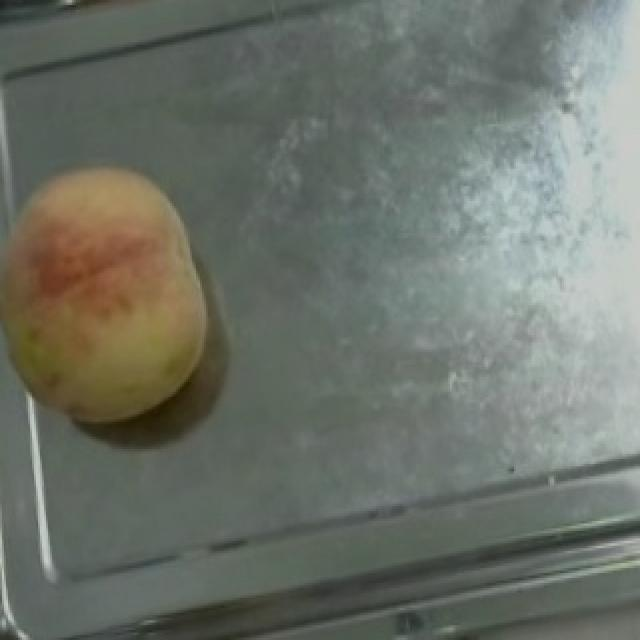Fruit: (2, 136, 236, 449)
